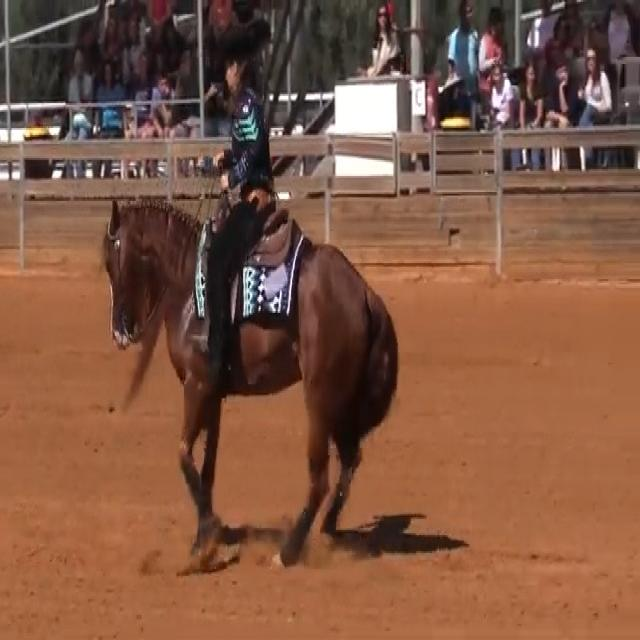horse: (99, 192, 400, 571)
